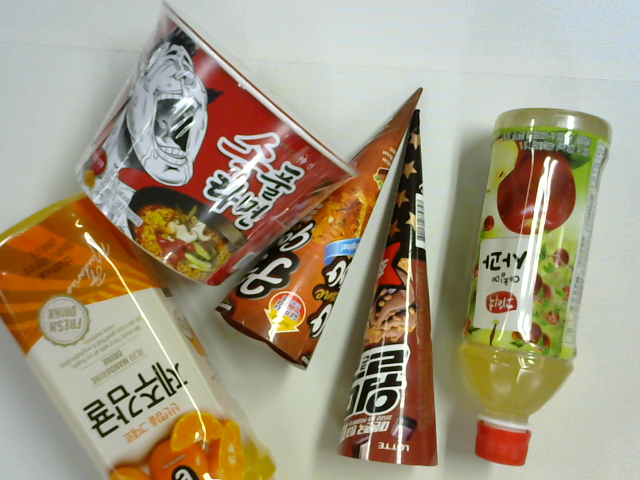GooGoo_Cone_CVS: (220, 86, 425, 367)
Hejangpul: (71, 1, 351, 288)
Jeju_Tangerine_1.5L: (1, 193, 280, 480)
Morning_Apple_500ml: (456, 100, 610, 467)
World_Cone_Choco: (337, 107, 437, 462)
